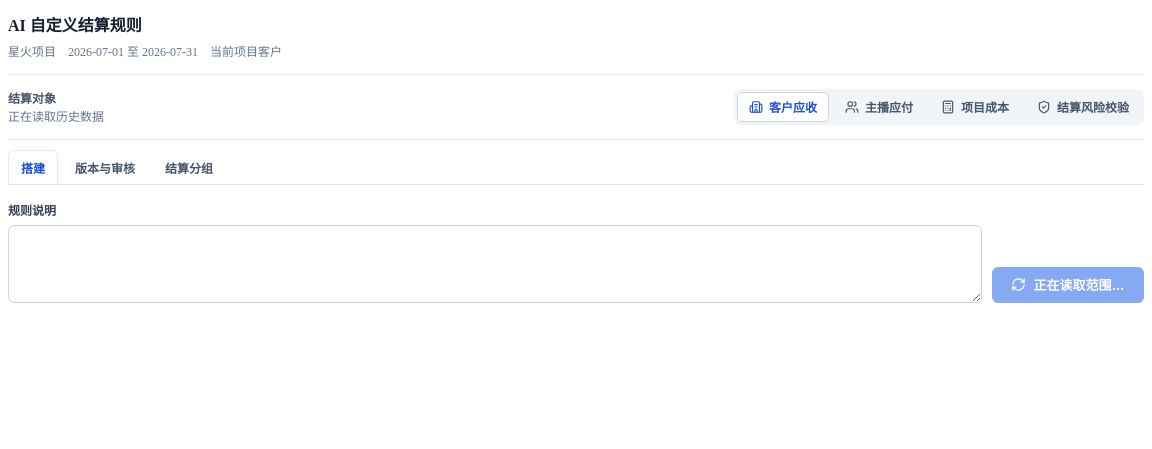
Test case: CustomSettlementRuleWorkspace › loads finalized variables for settlement risk checks without exposing formula syntax
Click the button "结算风险校验" at (1083, 107), box [1025,92,1141,122]
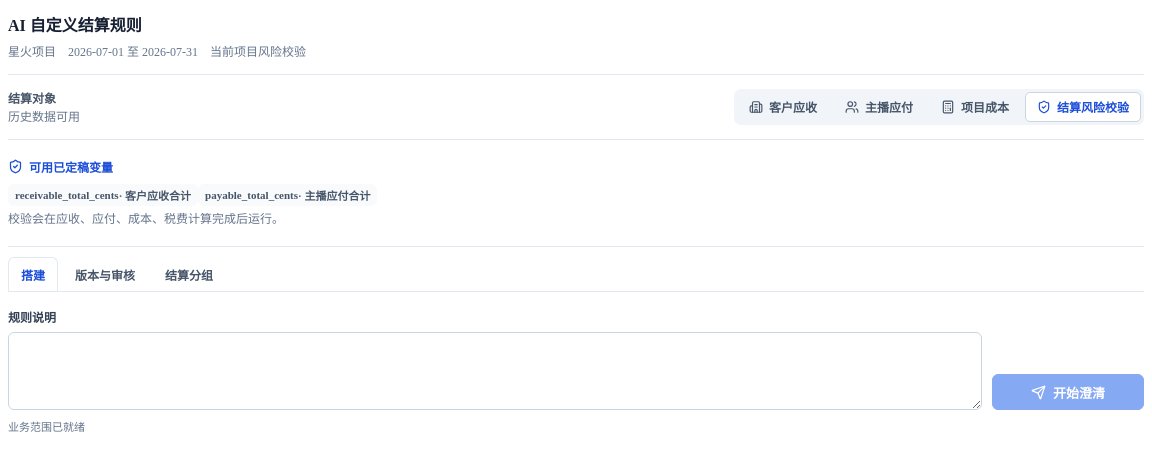
Now the element "可用已定稿变量" shows "receivable_total_cents", box [15,189,119,201]
Now the element "可用已定稿变量" shows "客户应收合计", box [125,190,191,202]
Now the element "可用已定稿变量" shows "payable_total_cents", box [205,189,298,201]
